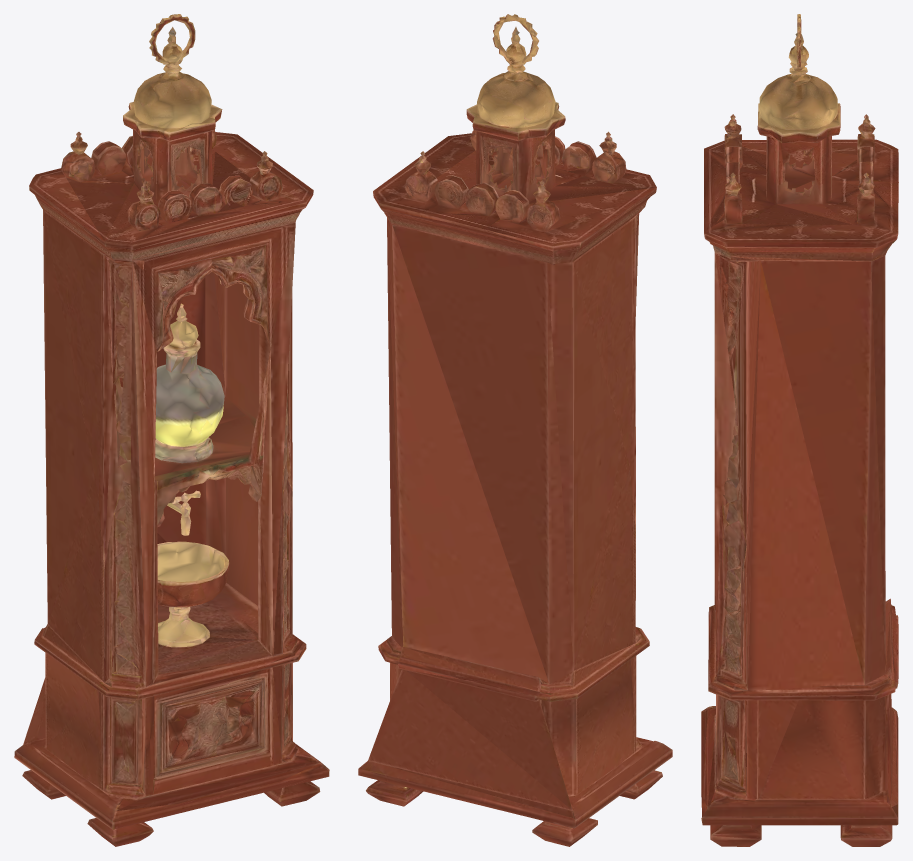
The model's file is la_perk_strider.glb.
3 renders of one model, left to right at view 1: azimuth 30°, elevation 25°; view 2: azimuth 150°, elevation 25°; view 3: azimuth 270°, elevation 25°, orthographic.
Visible parts, largest first — view 1: la_perk_strider; view 2: la_perk_strider; view 3: la_perk_strider.
Part boxes in pixels (x1,y1,x2,y2): la_perk_strider: (14, 14, 329, 846); la_perk_strider: (358, 14, 672, 846); la_perk_strider: (701, 14, 898, 846).
Size of the model in its own units: 0.6125 by 2.1 by 0.4802.
Materials: 1 (1 with a texture image).
